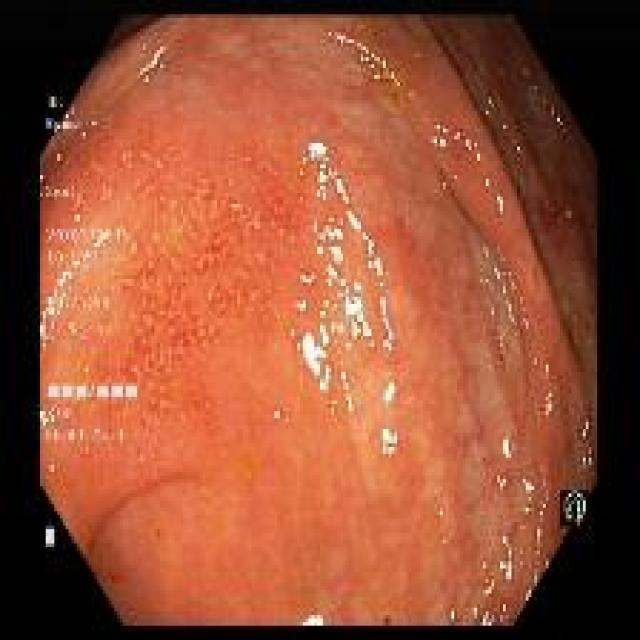ulcerative-colitis: (40, 17, 596, 624)
